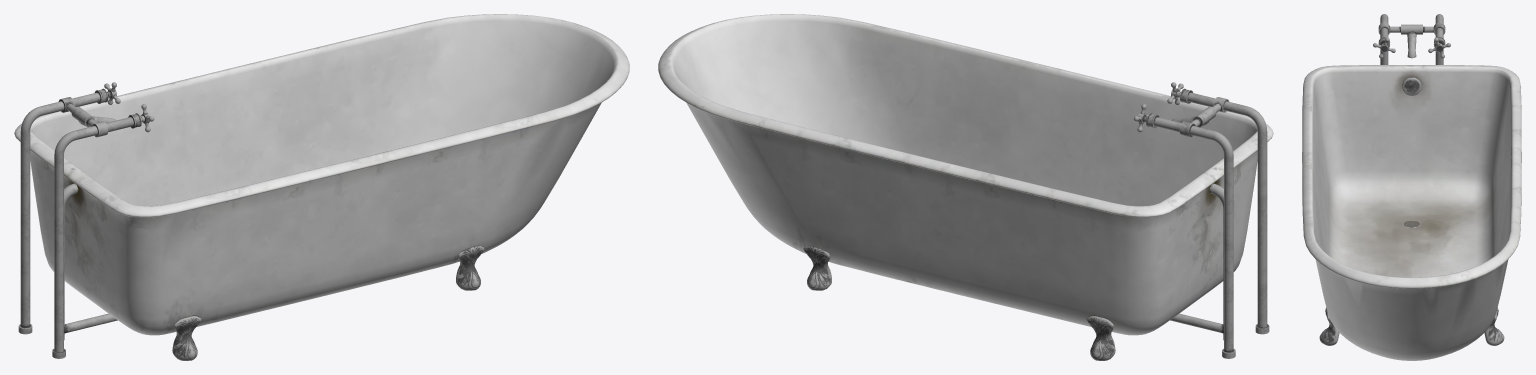
File: bathtub_igrium.glb
3 renders of one model, left to right at view 1: azimuth 30°, elevation 25°; view 2: azimuth 150°, elevation 25°; view 3: azimuth 270°, elevation 25°, orthographic. The views are drawn at different scales.
Visible parts, largest first — view 1: Object_5; view 2: Object_5; view 3: Object_5.
Boxes of the visible parts, box(x1,y1,x2,y2) form: Object_5: box(14, 14, 629, 360); Object_5: box(658, 14, 1273, 360); Object_5: box(1302, 14, 1521, 360).
Size of the model in its own units: 2.52 by 0.9546 by 1.01.
1 material, 1 textured.
